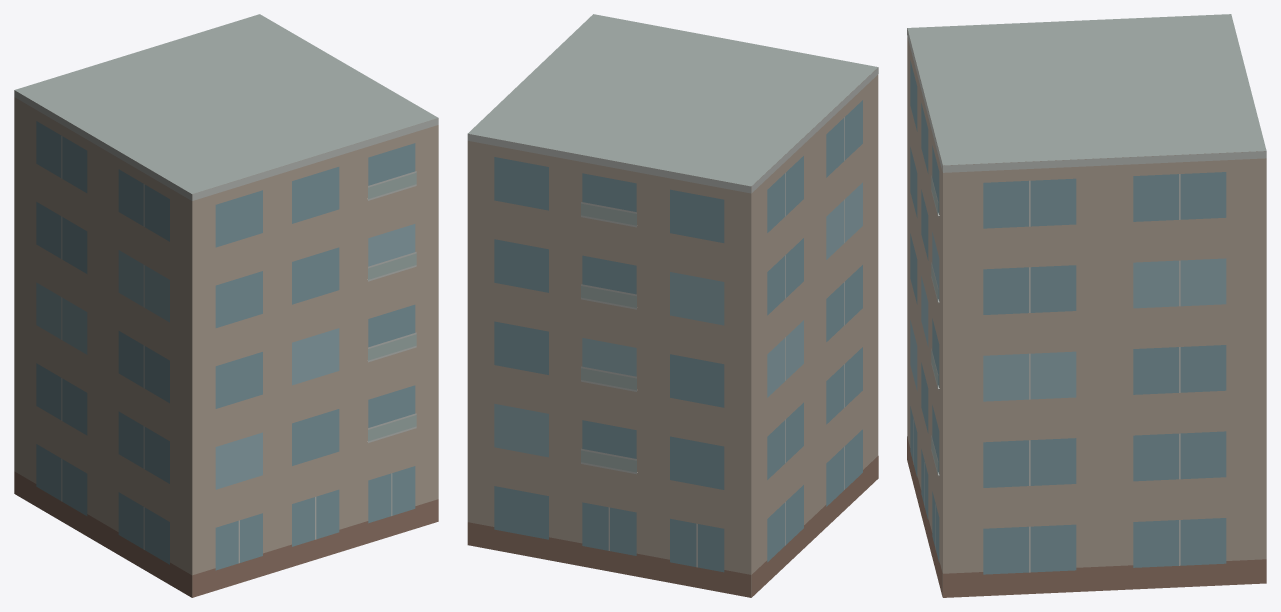
The model's file is survey-upis-32983041.glb.
3 views of the same model, side by side, from view 1: azimuth 30°, elevation 25°; view 2: azimuth 150°, elevation 25°; view 3: azimuth 270°, elevation 25° (orthographic). The views are drawn at different scales.
Visible parts, largest first — view 1: survey-upis-32983041.tmp; view 2: survey-upis-32983041.tmp; view 3: survey-upis-32983041.tmp.
Part boxes in pixels (x1,y1,x2,y2): survey-upis-32983041.tmp: (14, 14, 438, 597); survey-upis-32983041.tmp: (467, 14, 878, 597); survey-upis-32983041.tmp: (907, 14, 1266, 597).
Size of the model in its own units: 10.68 by 14.2 by 10.71.
